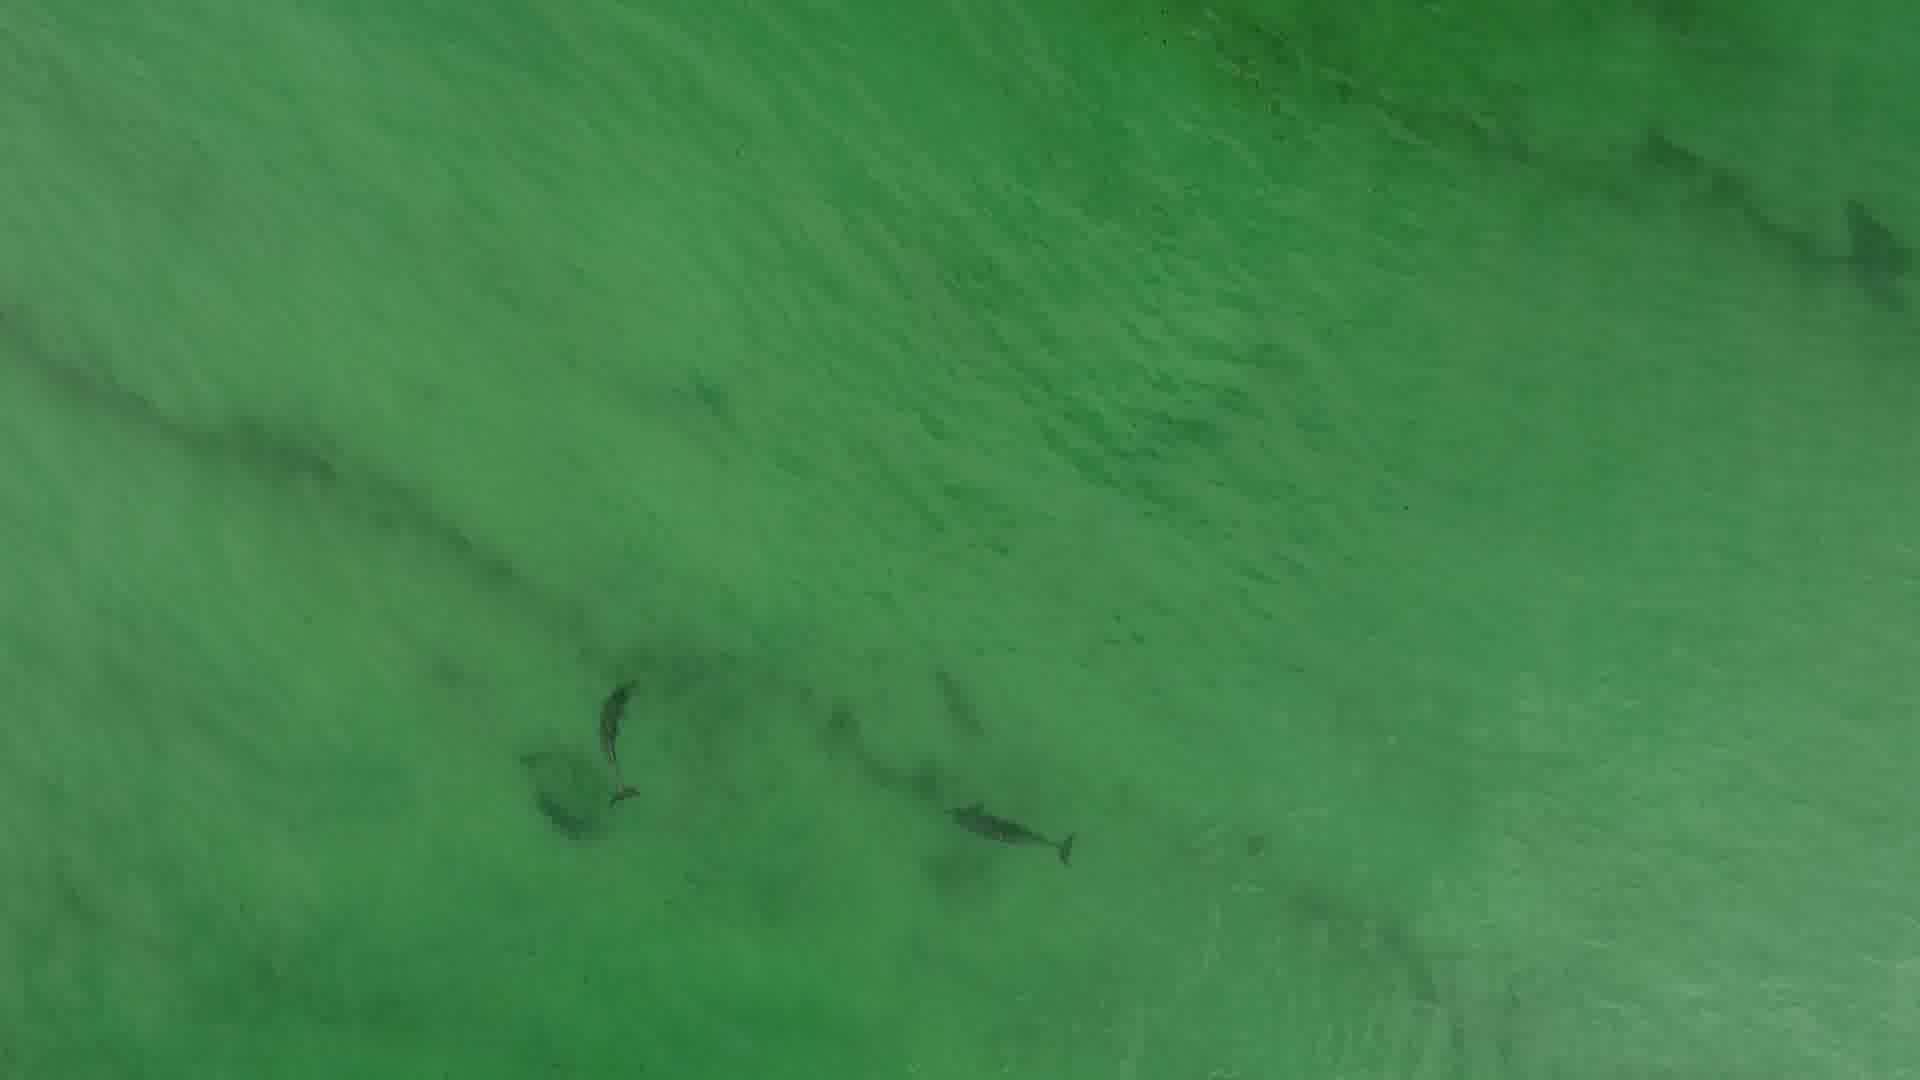dolphin: (910, 764, 1091, 880), (567, 651, 651, 818)
